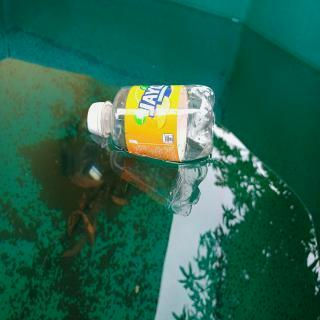bottle: (84, 82, 218, 164)
